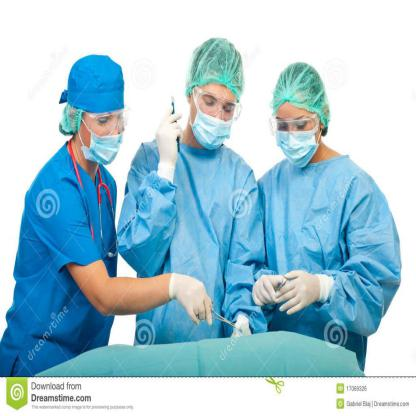face: (194, 72, 235, 149), (82, 95, 124, 162), (278, 103, 320, 166)
